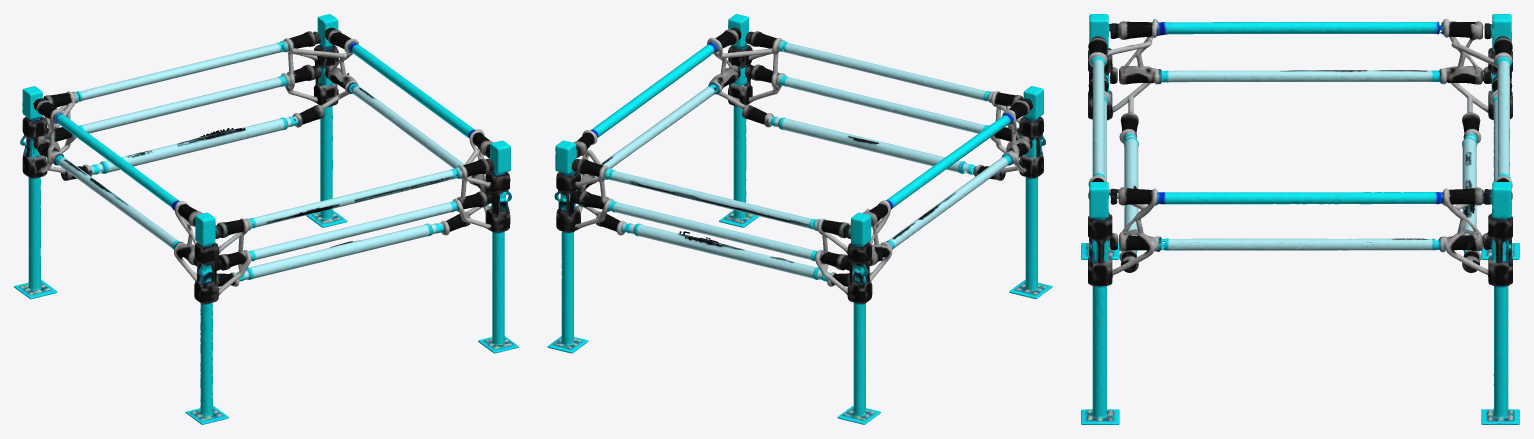
Rendered from goalFrame-trellis-2026-08-06-bad.glb.
3 renders of one model, left to right at view 1: azimuth 30°, elevation 25°; view 2: azimuth 150°, elevation 25°; view 3: azimuth 270°, elevation 25°, orthographic. The views are drawn at different scales.
Visible parts, largest first — view 1: world; view 2: world; view 3: world.
Boxes of the visible parts, x1=… form: world: x1=14, y1=14, x2=518, y2=424; world: x1=547, y1=14, x2=1052, y2=424; world: x1=1081, y1=14, x2=1519, y2=424.
Bounding box in the file's own units: 0.9784 × 0.5904 × 1.
Materials: 1 (1 with a texture image).
